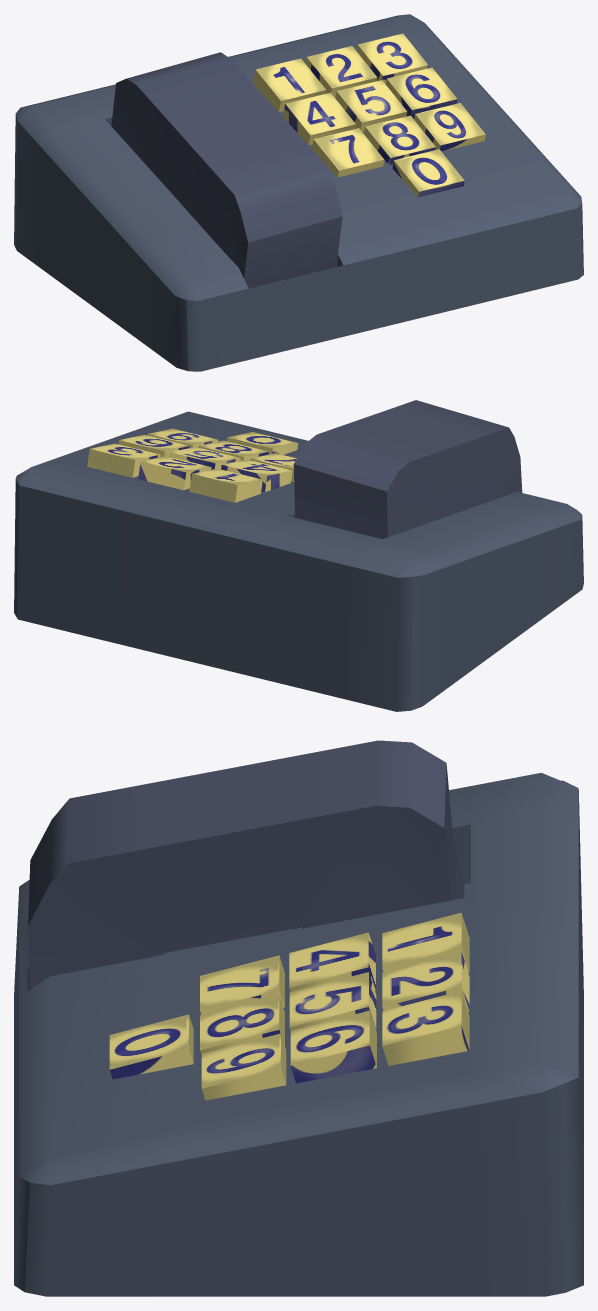
File: phone.fbx
The picture shows the model from 3 angles, top to bottom: view 1: azimuth 30°, elevation 25°; view 2: azimuth 150°, elevation 25°; view 3: azimuth 270°, elevation 25°; orthographic projection. The views are drawn at different scales.
Visible parts, largest first — view 1: pasted__phoneBase, pasted__phoneHandset, pasted__phoneButton1, pasted__phoneButton4, pasted__phoneButton7, pasted__phoneButton5, pasted__phoneButton9, pasted__phoneButton0, pasted__phoneButton6, pasted__phoneButton2, pasted__phoneButton3, pasted__phoneButton8; view 2: pasted__phoneBase, pasted__phoneHandset, pasted__phoneButton1, pasted__phoneButton2, pasted__phoneButton3, pasted__phoneButton4, pasted__phoneButton0, pasted__phoneButton5, pasted__phoneButton6, pasted__phoneButton8, pasted__phoneButton9, pasted__phoneButton7; view 3: pasted__phoneBase, pasted__phoneHandset, pasted__phoneButton3, pasted__phoneButton6, pasted__phoneButton9, pasted__phoneButton0, pasted__phoneButton1, pasted__phoneButton4, pasted__phoneButton2, pasted__phoneButton5, pasted__phoneButton7, pasted__phoneButton8.
Boxes of the visible parts, x1,y1,x2,y2 form: pasted__phoneBase: [14, 14, 583, 371]; pasted__phoneHandset: [111, 52, 342, 288]; pasted__phoneButton1: [253, 58, 326, 111]; pasted__phoneButton4: [283, 92, 355, 145]; pasted__phoneButton7: [312, 128, 384, 177]; pasted__phoneButton5: [335, 80, 407, 131]; pasted__phoneButton9: [414, 103, 485, 151]; pasted__phoneButton0: [392, 149, 464, 197]; pasted__phoneButton6: [385, 67, 457, 118]; pasted__phoneButton2: [305, 46, 377, 97]; pasted__phoneButton3: [356, 33, 428, 83]; pasted__phoneButton8: [364, 115, 435, 164]; pasted__phoneBase: [14, 411, 583, 711]; pasted__phoneHandset: [293, 400, 522, 538]; pasted__phoneButton1: [189, 468, 262, 502]; pasted__phoneButton2: [138, 456, 211, 490]; pasted__phoneButton3: [87, 443, 160, 477]; pasted__phoneButton4: [221, 459, 292, 492]; pasted__phoneButton0: [227, 432, 298, 454]; pasted__phoneButton5: [169, 447, 240, 469]; pasted__phoneButton6: [118, 434, 189, 456]; pasted__phoneButton8: [198, 440, 269, 460]; pasted__phoneButton9: [147, 428, 218, 447]; pasted__phoneButton7: [250, 453, 296, 481]; pasted__phoneBase: [14, 772, 583, 1296]; pasted__phoneHandset: [28, 740, 464, 988]; pasted__phoneButton3: [382, 991, 469, 1065]; pasted__phoneButton6: [290, 1010, 376, 1083]; pasted__phoneButton9: [201, 1033, 286, 1100]; pasted__phoneButton0: [109, 1014, 193, 1079]; pasted__phoneButton1: [382, 912, 469, 972]; pasted__phoneButton4: [289, 932, 375, 991]; pasted__phoneButton2: [382, 952, 469, 1011]; pasted__phoneButton5: [289, 972, 376, 1030]; pasted__phoneButton7: [200, 955, 284, 1014]; pasted__phoneButton8: [200, 995, 284, 1054].
Size of the model in its own units: 41.18 by 18.64 by 31.88.
Materials: 12 (10 with a texture image).
